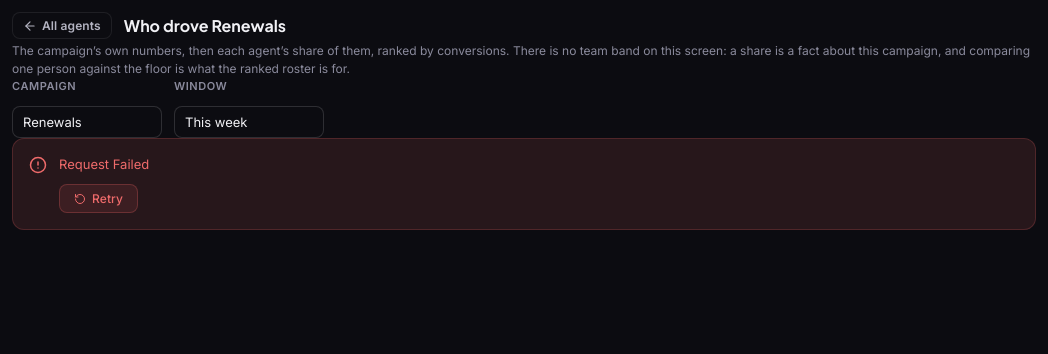
Test: CampaignContribution — the four states › offers a retry on a failed rows read, and re-asks
This screenshot has width=1048, height=354.
Expected: the element with test id "contribution-error" is shown, top-left (12, 138), bottom-right (1036, 230)
Expected: the text "Request Failed" is shown, top-left (59, 156), bottom-right (149, 172)
Click the button "Retry": click(99, 199) top-left (59, 184), bottom-right (138, 213)
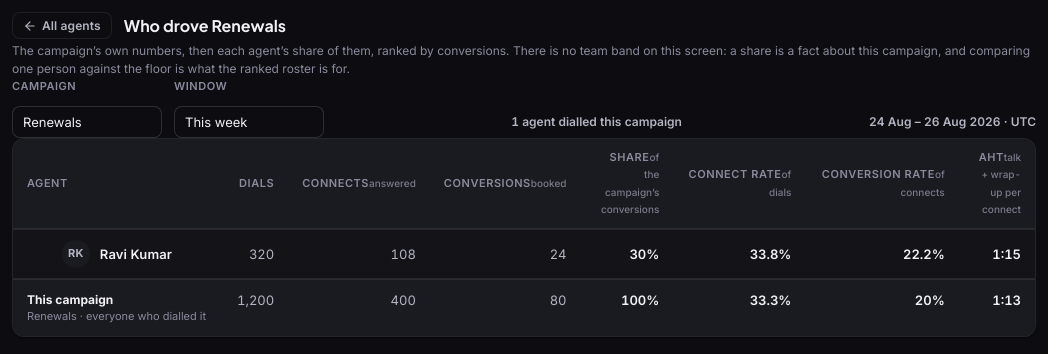
Expected: the element with test id "contribution-table" is shown, top-left (12, 138), bottom-right (1036, 337)
